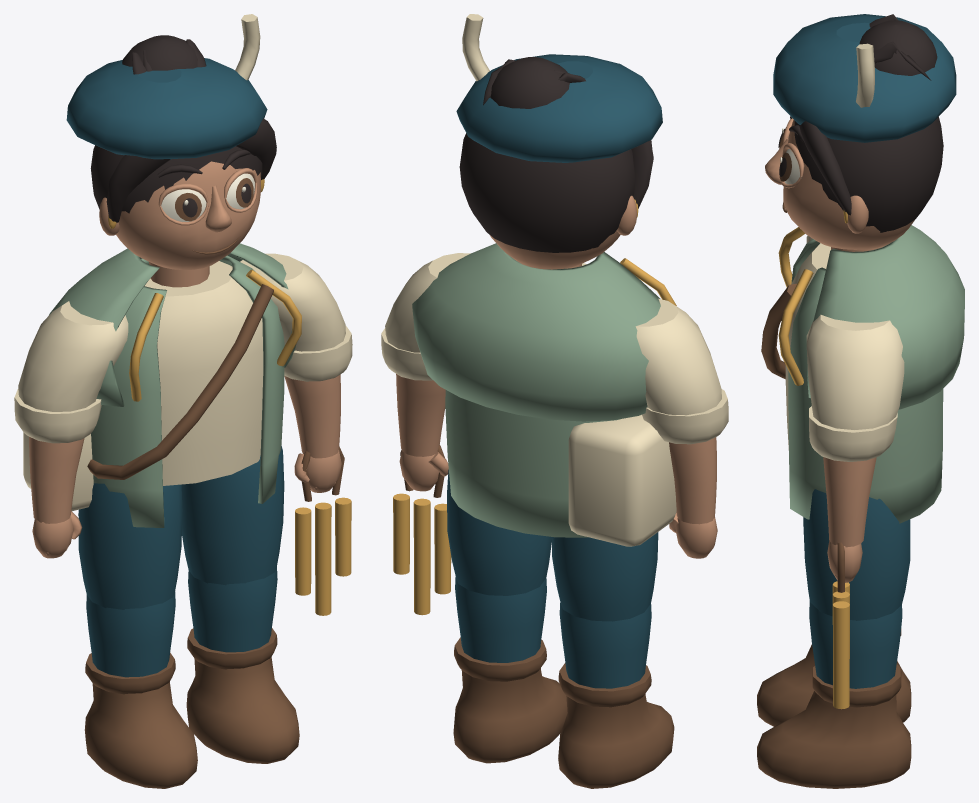
File: world03-cloud-shepherd-v1.glb
3 views of the same model, side by side, from view 1: azimuth 30°, elevation 25°; view 2: azimuth 150°, elevation 25°; view 3: azimuth 270°, elevation 25° (orthographic). The views are drawn at different scales.
Visible parts, largest first — view 1: hero-upper__MAT_teal, hero-upper__MAT_linen, head-joint__MAT_teal_dark, left-knee__MAT_leather, left-shoulder__MAT_linen, right-knee__MAT_leather, left-hip__MAT_teal_dark, right-hip__MAT_teal_dark, head-joint__MAT_skin, head-joint__MAT_hair, right-shoulder__MAT_linen, left-knee__MAT_teal_dark (+9 smaller); view 2: hero-upper__MAT_teal, head-joint__MAT_hair, head-joint__MAT_teal_dark, hero-upper__MAT_linen, left-knee__MAT_leather, right-knee__MAT_leather, left-shoulder__MAT_linen, left-hip__MAT_teal_dark, right-hip__MAT_teal_dark, left-knee__MAT_teal_dark, right-knee__MAT_teal_dark, left-elbow__MAT_skin (+6 smaller); view 3: hero-upper__MAT_teal, head-joint__MAT_teal_dark, head-joint__MAT_hair, right-knee__MAT_leather, right-shoulder__MAT_linen, right-hip__MAT_teal_dark, head-joint__MAT_skin, right-knee__MAT_teal_dark, right-elbow__MAT_skin, left-knee__MAT_leather, right-elbow__MAT_ochre, hero-upper__MAT_ochre (+4 smaller).
Boxes of the visible parts, x1,y1,x2,y2 form: hero-upper__MAT_teal: (49,243,296,527); hero-upper__MAT_linen: (23,261,263,511); head-joint__MAT_teal_dark: (66,58,267,159); left-knee__MAT_leather: (84,652,197,788); left-shoulder__MAT_linen: (14,301,128,443); right-knee__MAT_leather: (186,628,299,763); left-hip__MAT_teal_dark: (78,483,182,609); right-hip__MAT_teal_dark: (181,445,284,585); head-joint__MAT_skin: (99,161,260,287); head-joint__MAT_hair: (90,35,276,222); right-shoulder__MAT_linen: (240,253,352,381); left-knee__MAT_teal_dark: (86,591,175,677); hero-upper__MAT_teal: (412,243,660,537); head-joint__MAT_hair: (459,57,653,252); head-joint__MAT_teal_dark: (456,54,662,162); hero-upper__MAT_linen: (568,263,676,546); left-knee__MAT_leather: (558,663,674,788); right-knee__MAT_leather: (453,637,567,763); left-shoulder__MAT_linen: (635,298,728,444); left-hip__MAT_teal_dark: (551,532,658,621); right-hip__MAT_teal_dark: (447,469,551,595); left-knee__MAT_teal_dark: (559,602,651,688); right-knee__MAT_teal_dark: (455,577,546,662); left-elbow__MAT_skin: (669,437,717,558); hero-upper__MAT_teal: (788,225,964,523); head-joint__MAT_teal_dark: (773,14,956,142); head-joint__MAT_hair: (778,14,943,232); right-knee__MAT_leather: (757,664,911,788); right-shoulder__MAT_linen: (806,314,904,461); right-hip__MAT_teal_dark: (803,489,910,620); head-joint__MAT_skin: (765,118,914,251); right-knee__MAT_teal_dark: (809,601,902,688); right-elbow__MAT_skin: (823,457,876,582); left-knee__MAT_leather: (757,629,911,726); right-elbow__MAT_ochre: (832,581,849,709); hero-upper__MAT_ochre: (778,227,813,385).
Size of the model in its own units: 1.03 by 2.12 by 0.5411.
